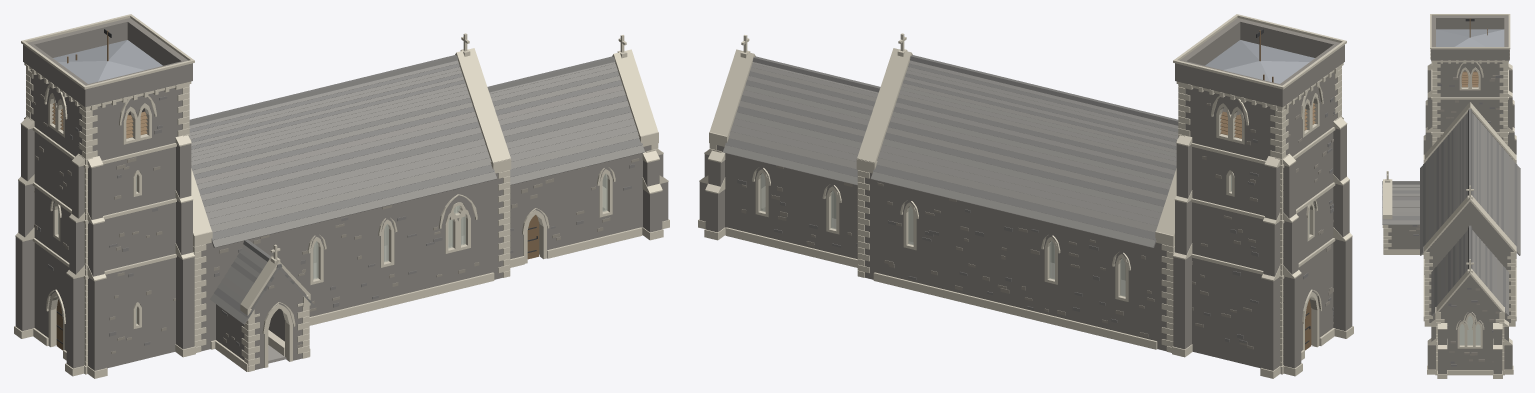
File: pennant-d.glb
The picture shows the model from 3 angles, left to right: view 1: azimuth 30°, elevation 25°; view 2: azimuth 150°, elevation 25°; view 3: azimuth 270°, elevation 25°; orthographic projection. The views are drawn at different scales.
Parts seen in each view (by area): view 1: rubble (×15), roof (×7), dress (×14), roof2 (×7), lead; view 2: rubble (×14), roof (×6), dress (×14), roof2 (×6), lead; view 3: rubble (×7), roof (×7), dress (×9), roof2 (×7), lead, glass, floor, timber, rubble2.
Boxes of the visible parts, x1=… form: rubble (×15): x1=15, y1=18, x2=668, y2=370; roof (×7): x1=189, y1=60, x2=644, y2=324; dress (×14): x1=14, y1=14, x2=669, y2=378; roof2 (×7): x1=189, y1=55, x2=642, y2=318; lead: x1=53, y1=40, x2=162, y2=83; rubble (×14): x1=699, y1=18, x2=1352, y2=370; roof (×6): x1=723, y1=60, x2=1178, y2=247; dress (×14): x1=698, y1=14, x2=1353, y2=378; roof2 (×6): x1=725, y1=55, x2=1178, y2=240; lead: x1=1205, y1=40, x2=1314, y2=83; rubble (×7): x1=1384, y1=16, x2=1514, y2=373; roof (×7): x1=1382, y1=113, x2=1520, y2=315; dress (×9): x1=1382, y1=14, x2=1516, y2=378; roof2 (×7): x1=1382, y1=109, x2=1517, y2=311; lead: x1=1436, y1=29, x2=1504, y2=46; glass: x1=1459, y1=315, x2=1480, y2=345; floor: x1=1460, y1=326, x2=1480, y2=344; timber: x1=1462, y1=28, x2=1487, y2=87; rubble2: x1=1449, y1=288, x2=1499, y2=362.
Bounding box in the file's own units: 34.02 × 16.85 × 10.7.
